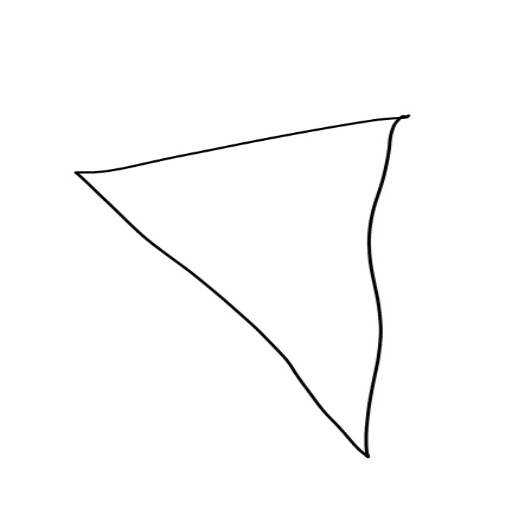triangle: (67, 106, 420, 468)
